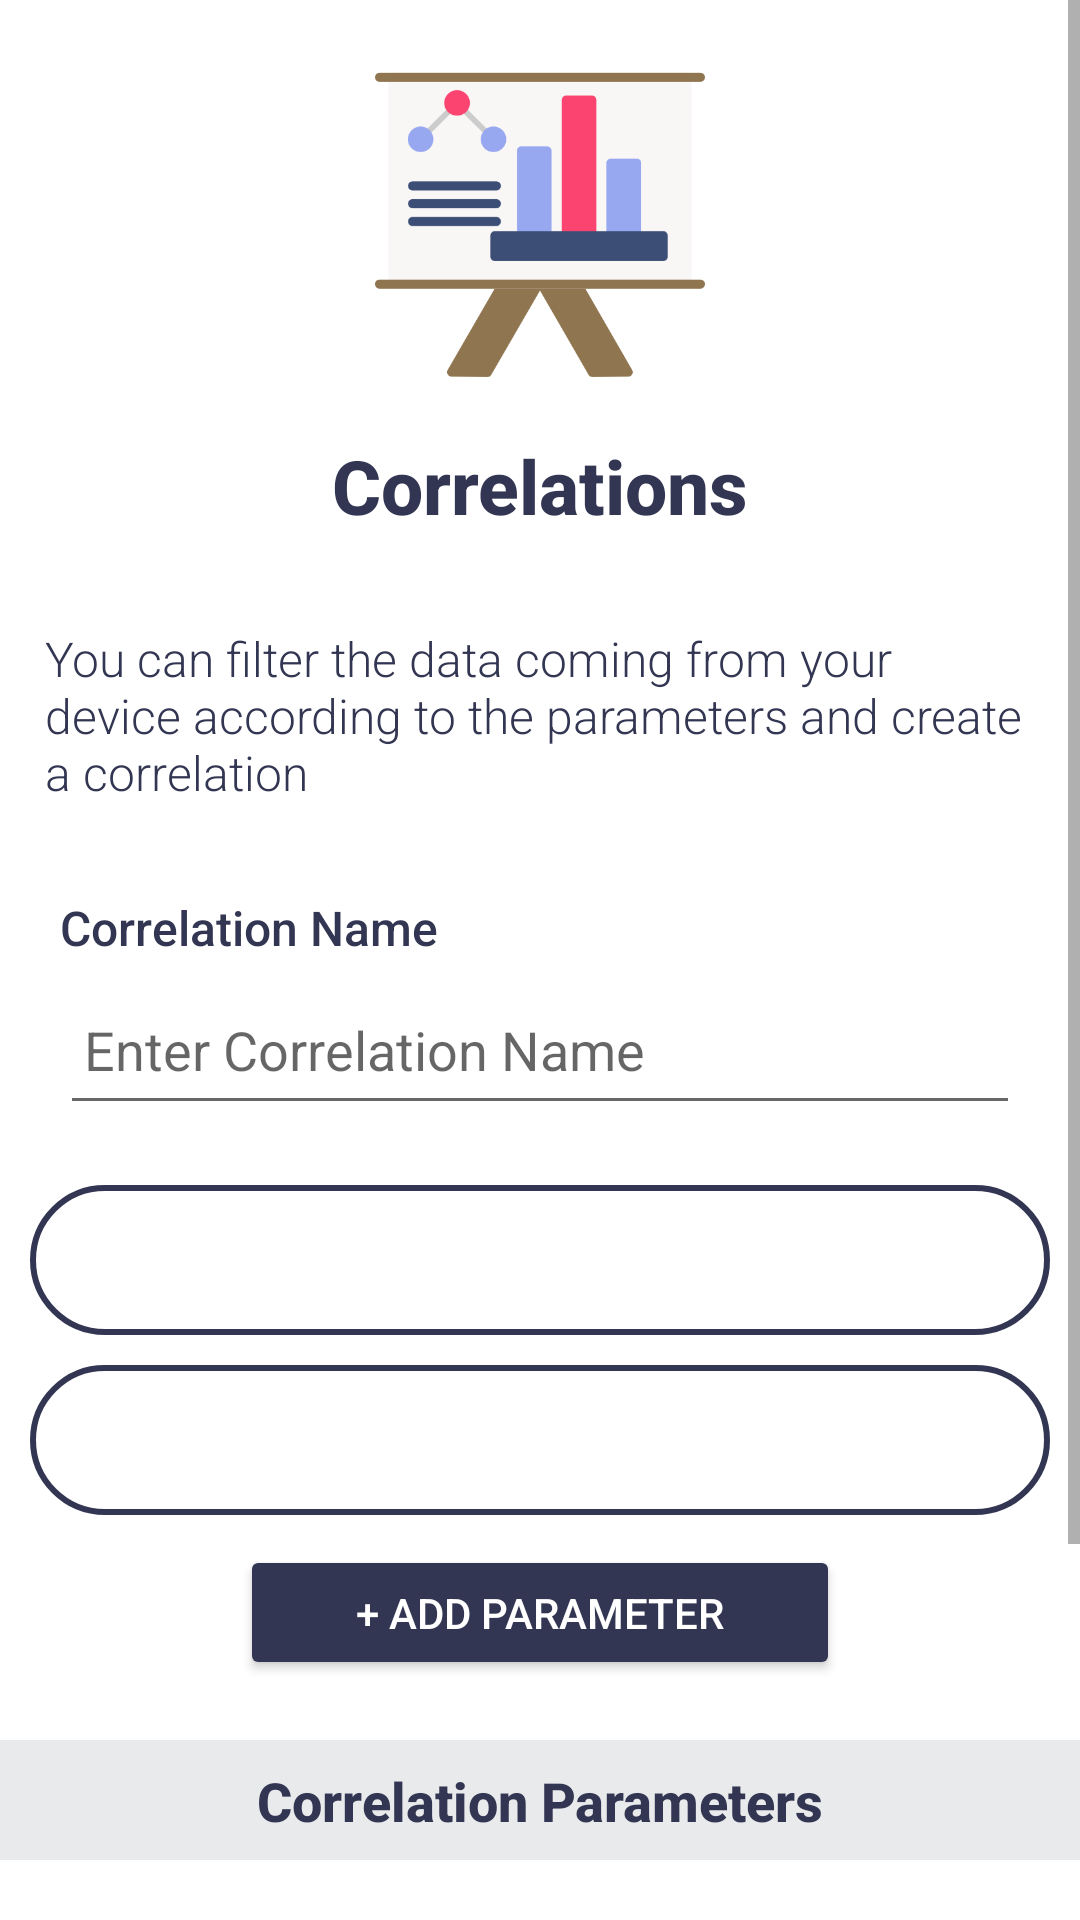

Screen size 1080×1920. Icon name, then its box in pixels as (x1=x1, y1=y1, x2=x2, y2=y2):
presentation: (x1=375, y1=72, x2=705, y2=377)
